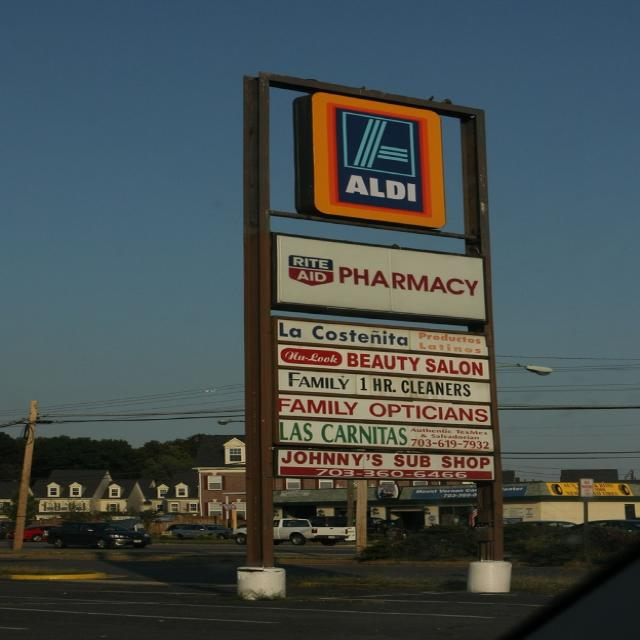aldi: (312, 93, 447, 228)
